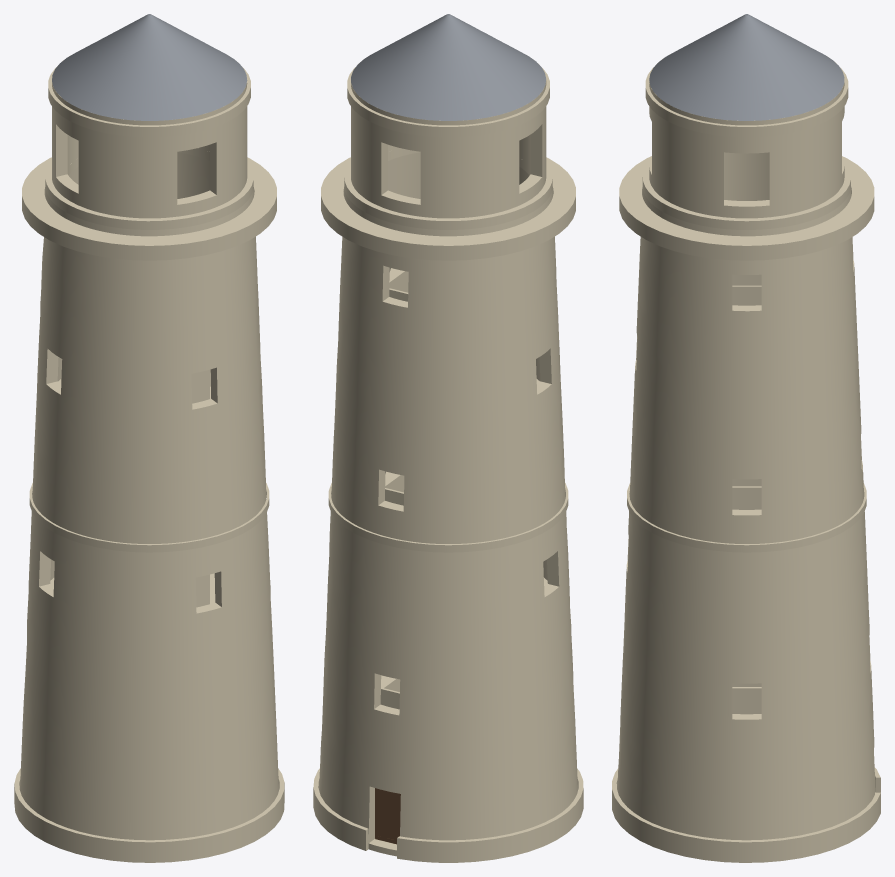
3 renders of one model, left to right at view 1: azimuth 30°, elevation 25°; view 2: azimuth 150°, elevation 25°; view 3: azimuth 270°, elevation 25°, orthographic.
Visible parts, largest first — view 1: body_plaster, trim_plaster, roof_metal, roof_plaster; view 2: body_plaster, trim_plaster, roof_metal, roof_plaster, door_timber; view 3: body_plaster, trim_plaster, roof_metal, roof_plaster.
Part boxes in pixels (left/top/right/bottom): body_plaster: left=20, top=61, right=278, bottom=840; trim_plaster: left=14, top=67, right=284, bottom=862; roof_metal: left=52, top=14, right=247, bottom=120; roof_plaster: left=45, top=148, right=253, bottom=229; body_plaster: left=319, top=63, right=577, bottom=856; trim_plaster: left=313, top=67, right=583, bottom=862; roof_metal: left=351, top=14, right=546, bottom=120; roof_plaster: left=344, top=148, right=552, bottom=229; door_timber: left=375, top=788, right=400, bottom=844; body_plaster: left=617, top=54, right=875, bottom=840; trim_plaster: left=612, top=67, right=880, bottom=862; roof_metal: left=649, top=14, right=844, bottom=120; roof_plaster: left=642, top=162, right=850, bottom=229.
Size of what is drawn, in the model's own units: 8.3 by 26.8 by 8.25.
